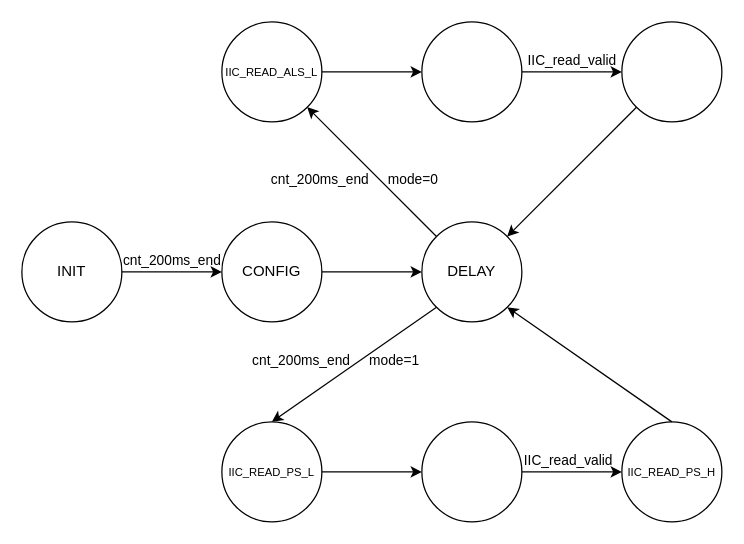
Image size: 744x544. Some labels were removed from this diagram. Each missing label, with the centre of its shape:
IIC_READ_ALS_H: pixel 671 71
IIC_WAIT_1: pixel 471 71
IIC_WAIT_2: pixel 471 471
